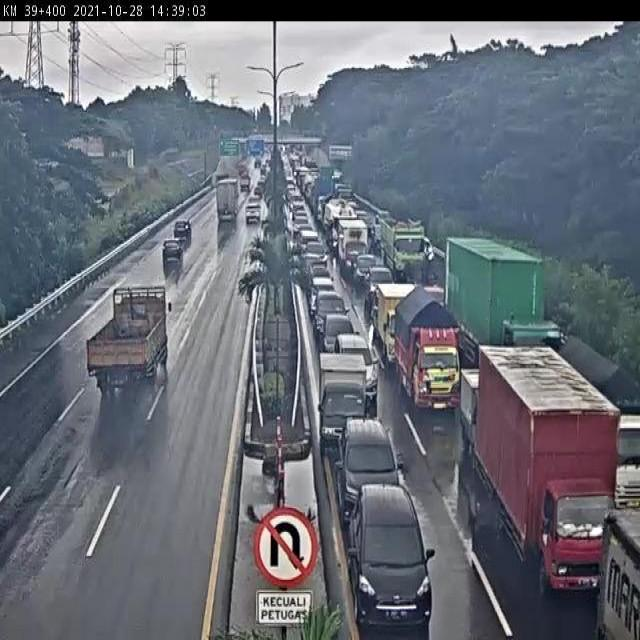big truck: (472, 333, 620, 598), (443, 230, 568, 370), (604, 496, 640, 640), (378, 210, 437, 286), (213, 180, 243, 223)
car: (344, 480, 440, 640), (334, 416, 411, 524), (333, 333, 388, 403), (312, 288, 353, 344), (319, 314, 358, 362), (157, 231, 187, 269), (169, 213, 199, 243), (243, 199, 269, 232)
small truck: (79, 273, 175, 411), (394, 283, 461, 413), (314, 348, 375, 457)
